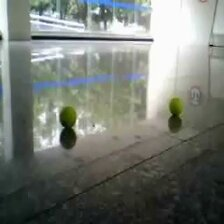tennis: (59, 105, 76, 126), (169, 98, 183, 115)
